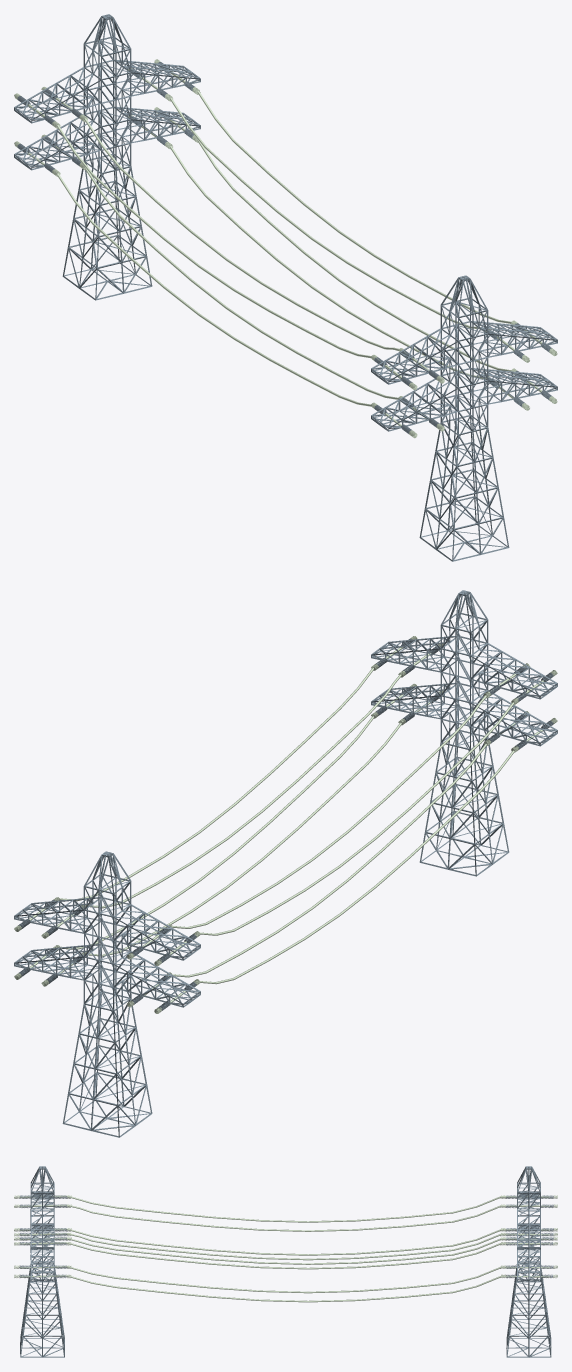
Rendered from Electrical Pylons.fbx.
3 views of the same model, one above another, from view 1: azimuth 30°, elevation 25°; view 2: azimuth 150°, elevation 25°; view 3: azimuth 270°, elevation 25° (orthographic). The views are drawn at different scales.
Parts seen in each view (by area): view 1: Electrical Coil.003, Electrical Coil.002, Cable; view 2: Electrical Coil.002, Electrical Coil.003, Cable; view 3: Cable, Electrical Coil.003, Electrical Coil.002.
Boxes of the visible parts, left/top/right/bottom form: Electrical Coil.003: left=371, top=275, right=557, bottom=561; Electrical Coil.002: left=14, top=14, right=200, bottom=300; Cable: left=27, top=69, right=542, bottom=426; Electrical Coil.002: left=14, top=851, right=200, bottom=1137; Electrical Coil.003: left=371, top=590, right=557, bottom=876; Cable: left=29, top=647, right=544, bottom=1002; Cable: left=19, top=1195, right=549, bottom=1302; Electrical Coil.003: left=14, top=1166, right=71, bottom=1357; Electrical Coil.002: left=500, top=1166, right=557, bottom=1357.
Bounding box in the file's own units: 606 × 2467 × 905.
